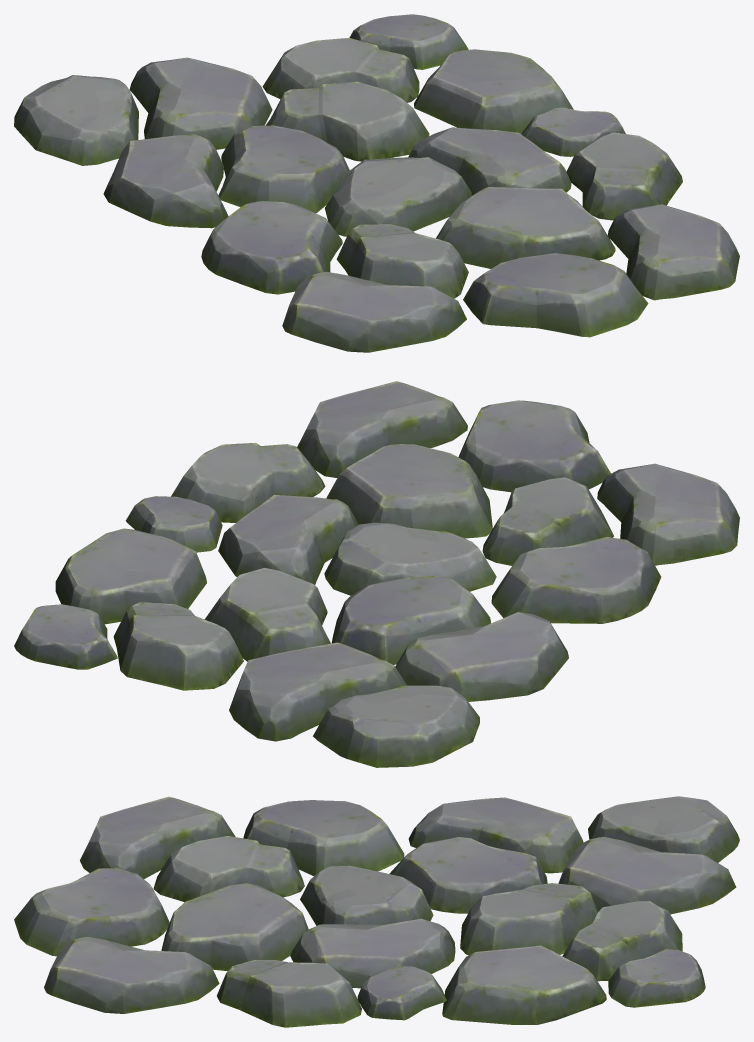
File: rockpath_round_thin.glb
The picture shows the model from 3 angles, top to bottom: view 1: azimuth 30°, elevation 25°; view 2: azimuth 150°, elevation 25°; view 3: azimuth 270°, elevation 25°; orthographic projection. The views are drawn at different scales.
Visible parts, largest first — view 1: RockPath_Round_Thin; view 2: RockPath_Round_Thin; view 3: RockPath_Round_Thin.
Boxes of the visible parts, box(x1,y1,x2,y2) form: RockPath_Round_Thin: box(14, 14, 739, 352); RockPath_Round_Thin: box(14, 381, 739, 767); RockPath_Round_Thin: box(14, 796, 739, 1027).
Bounding box in the file's own units: 1.46 × 0.1104 × 2.09.
Materials: 1 (1 with a texture image).
